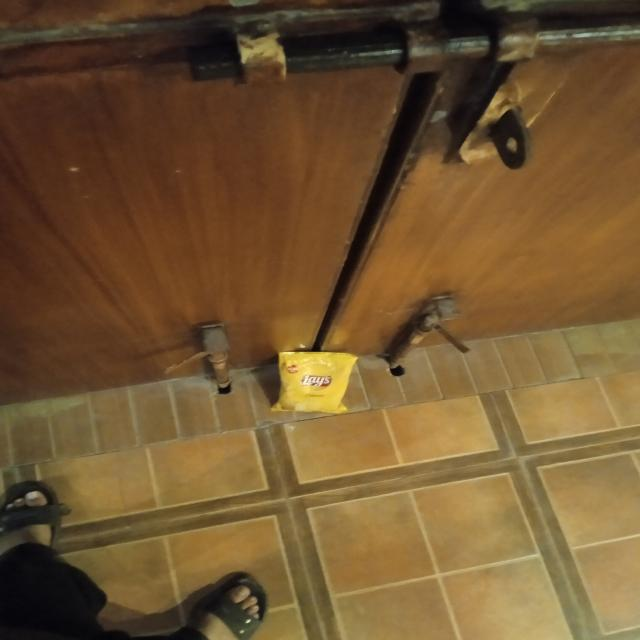Plastic: (267, 346, 359, 414)
